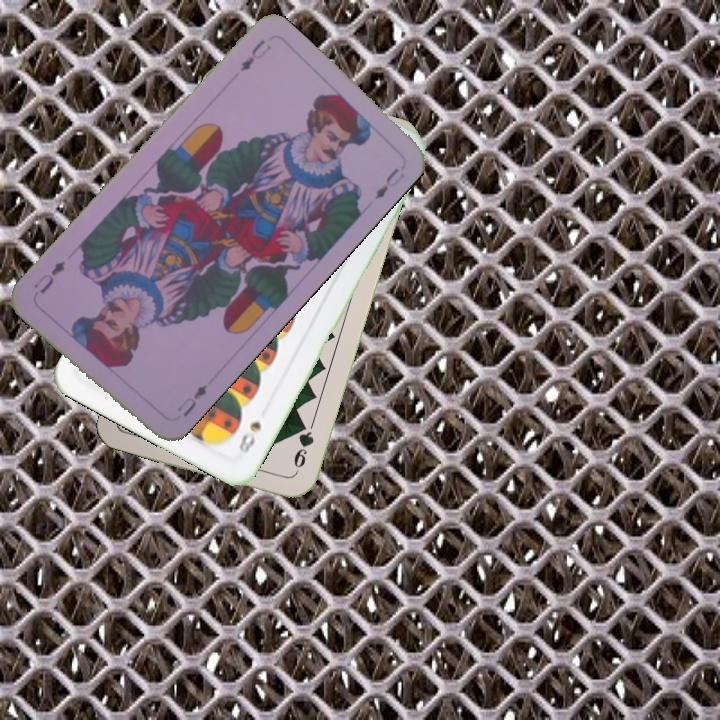EU: (173, 380, 211, 420), (236, 35, 274, 75)
G9: (289, 418, 317, 477)
S8: (234, 417, 264, 457)
